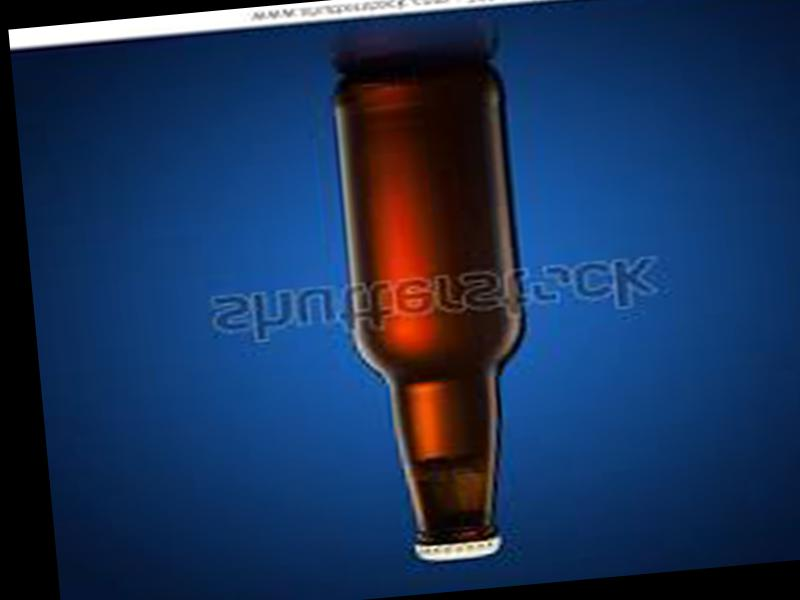Beer: (329, 60, 547, 569)
